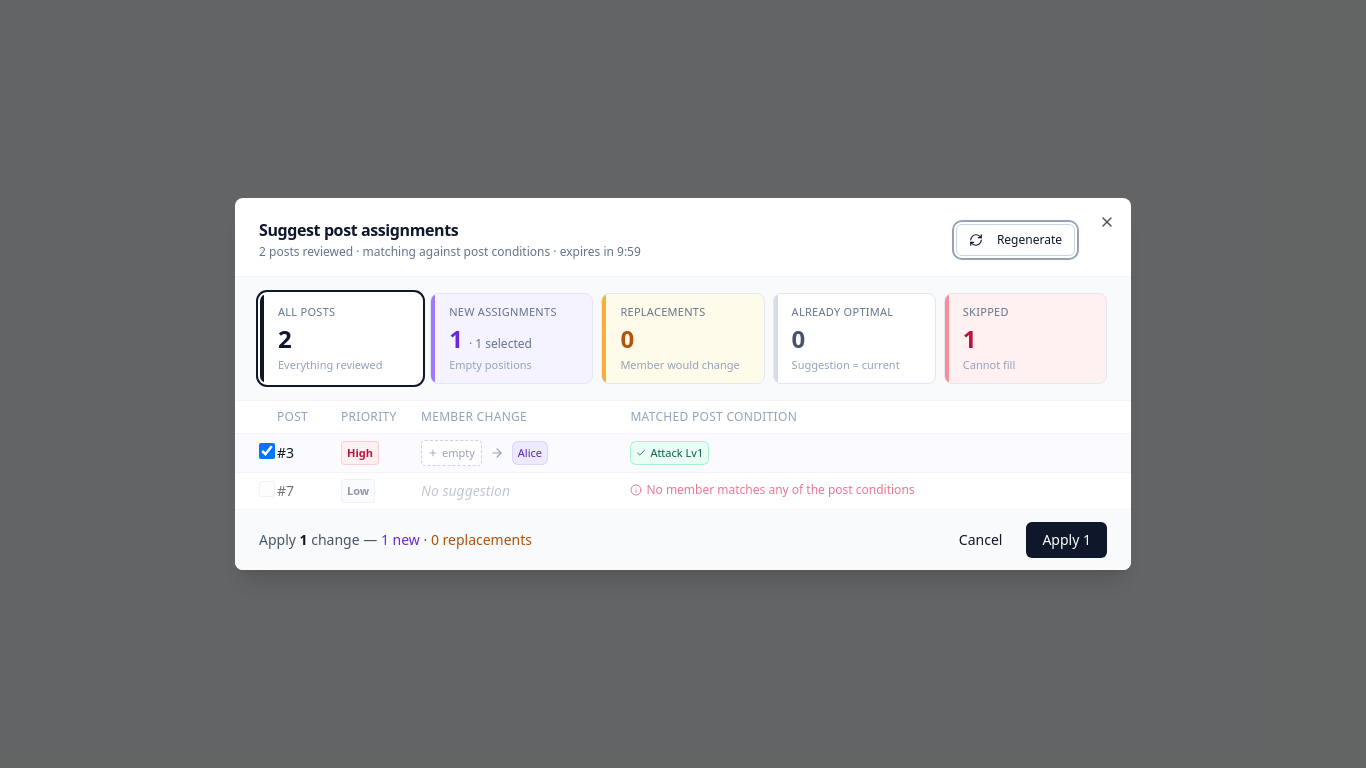
Test case: PostSuggestionsModal › 409 with stale_entries shows conflict state, modal stays open, board NOT invalidated
The width and height of the screenshot is (1366, 768).
Expected: the text "Alice" is shown, top-left (512, 441), bottom-right (548, 465)
Click the button "Apply 1". click: x=1067, y=540
box: top-left (1026, 522), bottom-right (1107, 558)
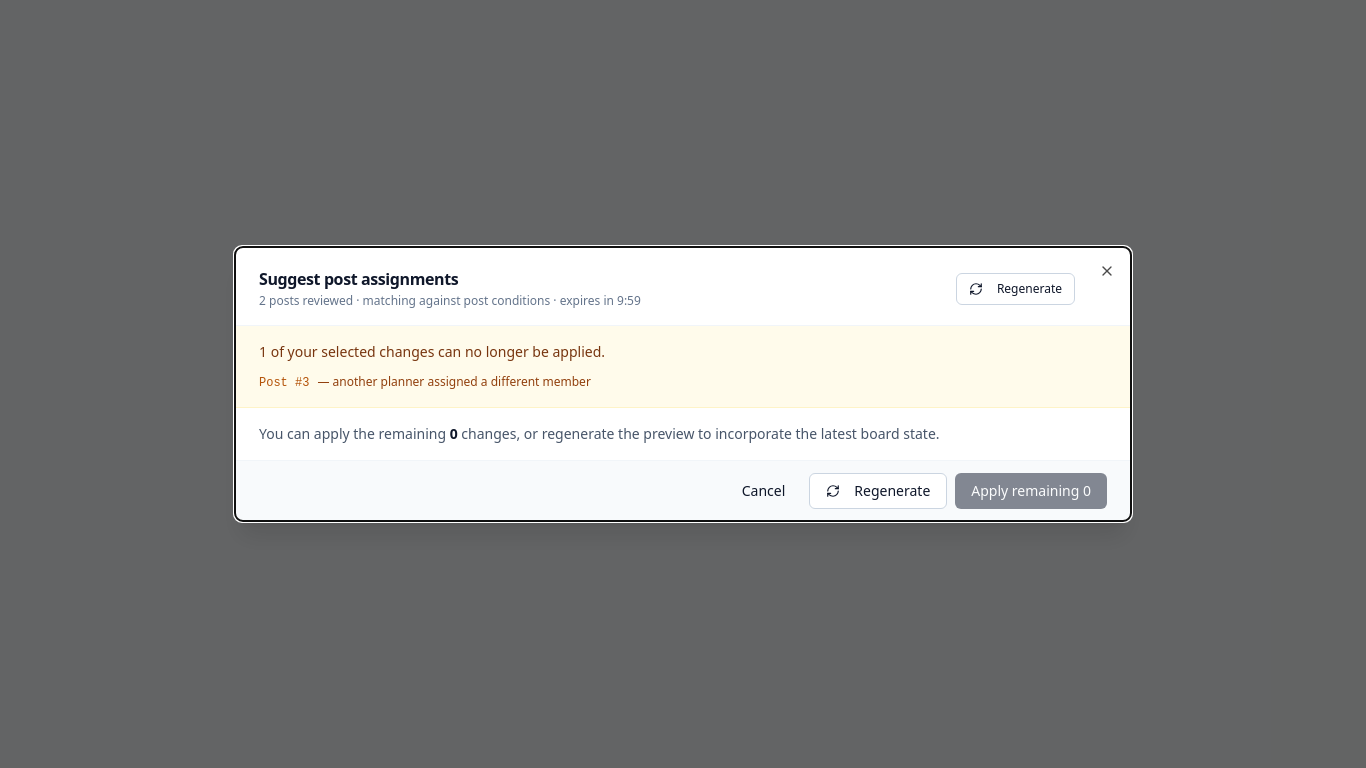
Result: the text "— another planner assigned a different member" is shown at top-left (317, 374), bottom-right (591, 390)
